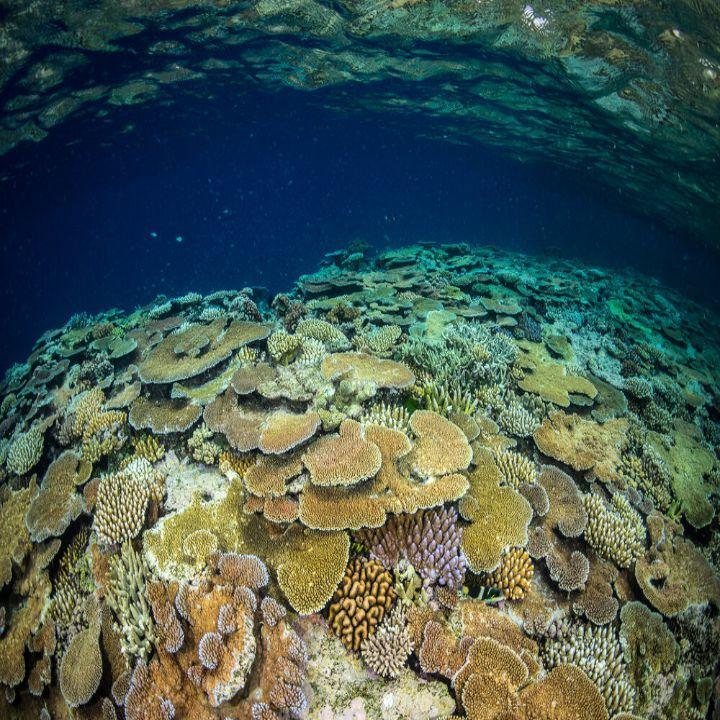Healthy Coral: (38, 288, 699, 701)
